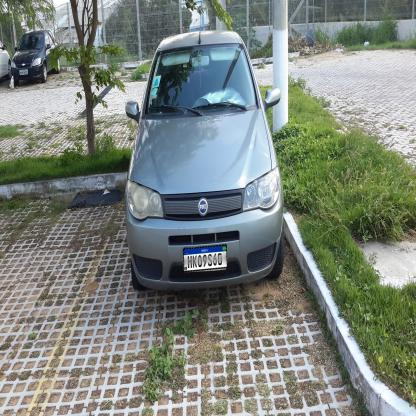PlacaM: (183, 244, 228, 272)
